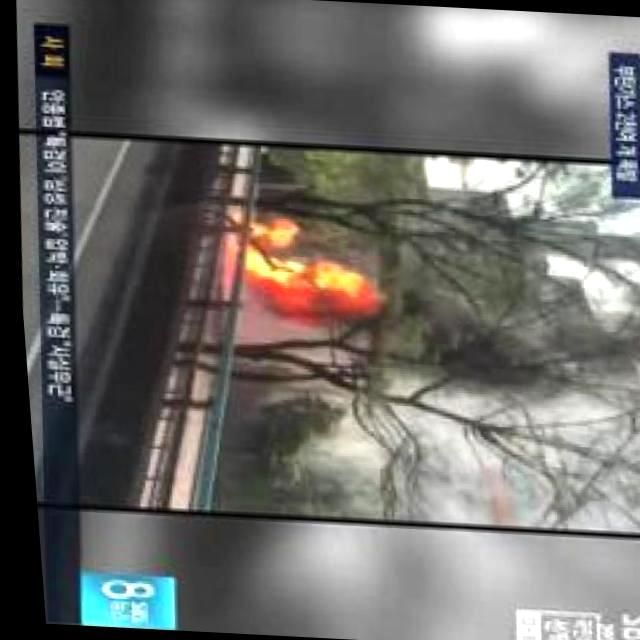fire: (228, 242, 356, 318), (223, 216, 297, 237)
